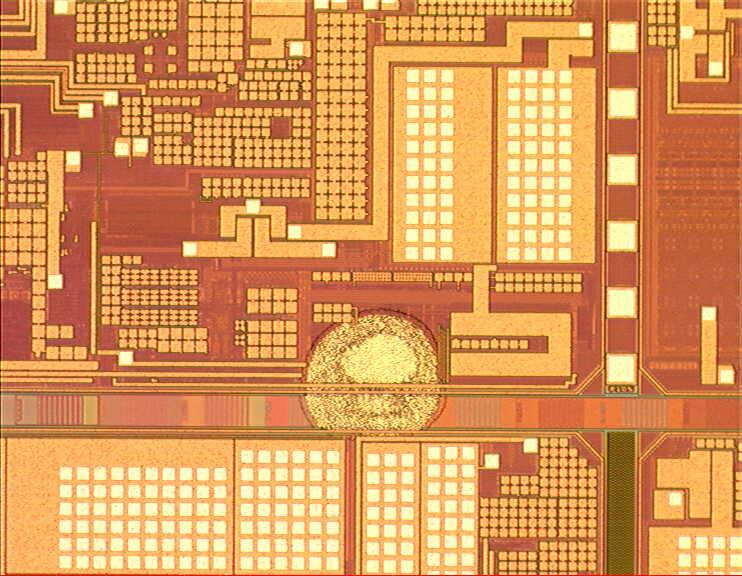BLOCK ETCH: (292, 306, 453, 444)
